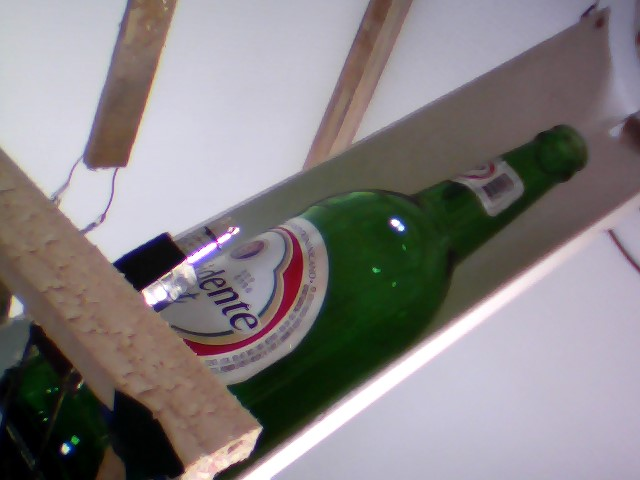vidrio: (187, 119, 594, 432)
